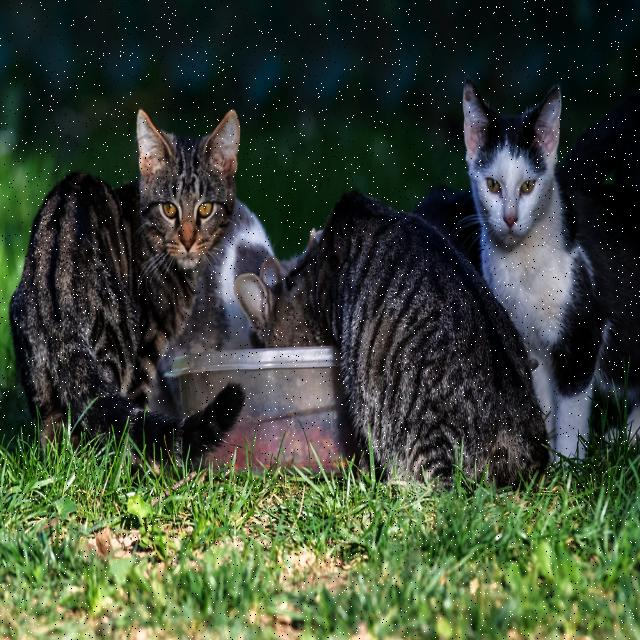cat: (235, 191, 549, 486), (10, 111, 244, 462), (462, 81, 640, 457), (161, 199, 274, 373), (558, 94, 640, 191), (414, 186, 480, 271)
